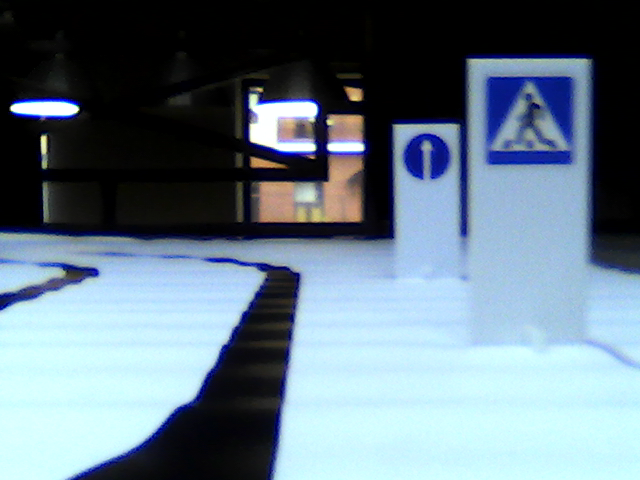forw: (402, 132, 448, 178)
pesh: (484, 74, 581, 170)
